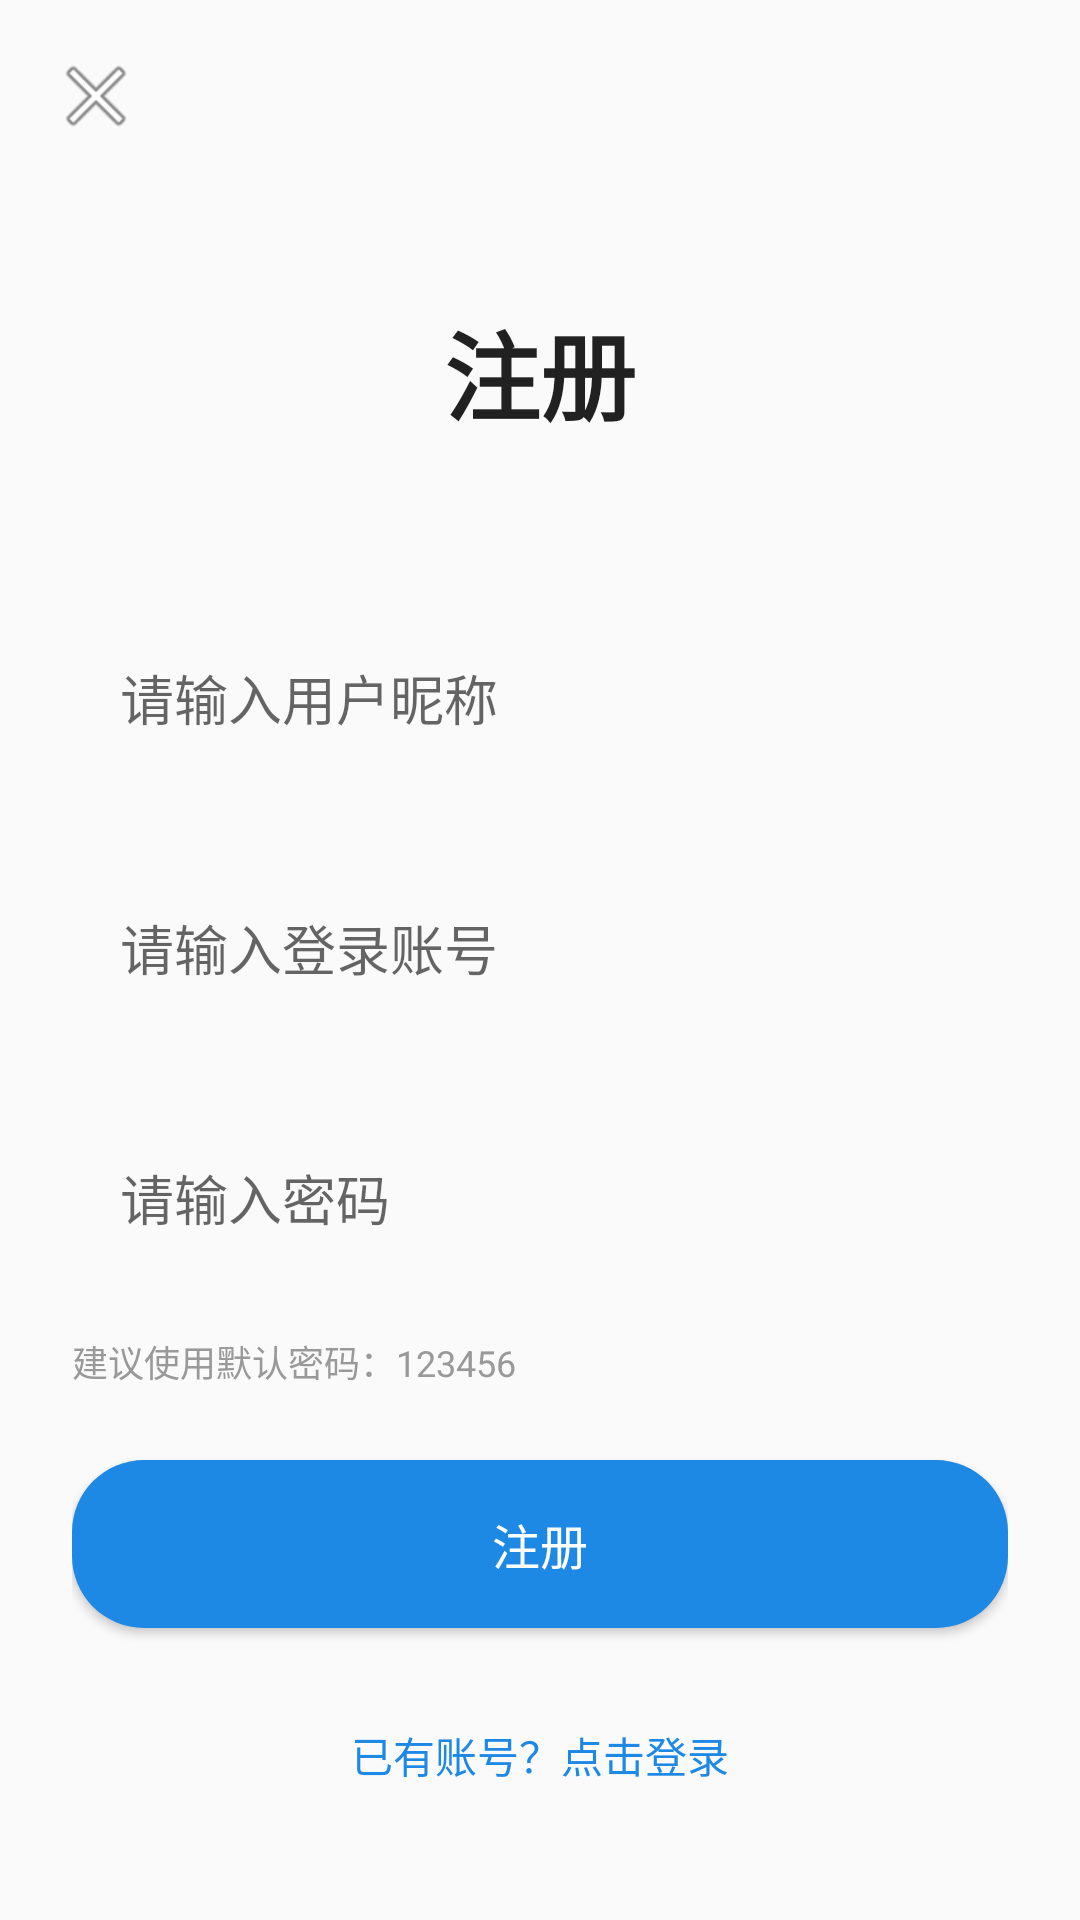

Where icons sit on this 1080x1920 app screen, as (x1, y1, x2, y2):
返回: (66, 66, 126, 126)
